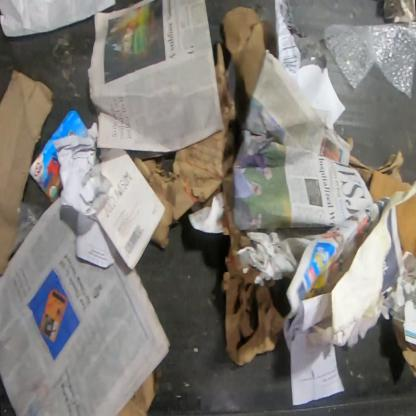cardboard: (306, 179, 416, 350), (215, 169, 285, 368), (0, 68, 55, 278), (172, 41, 238, 209), (87, 147, 167, 271), (132, 154, 200, 251), (29, 108, 88, 204), (220, 4, 266, 102), (348, 150, 413, 202), (116, 368, 157, 416), (395, 191, 415, 262), (392, 318, 415, 379), (403, 300, 415, 347)
soft_plastic: (322, 21, 416, 103), (10, 200, 44, 256)
